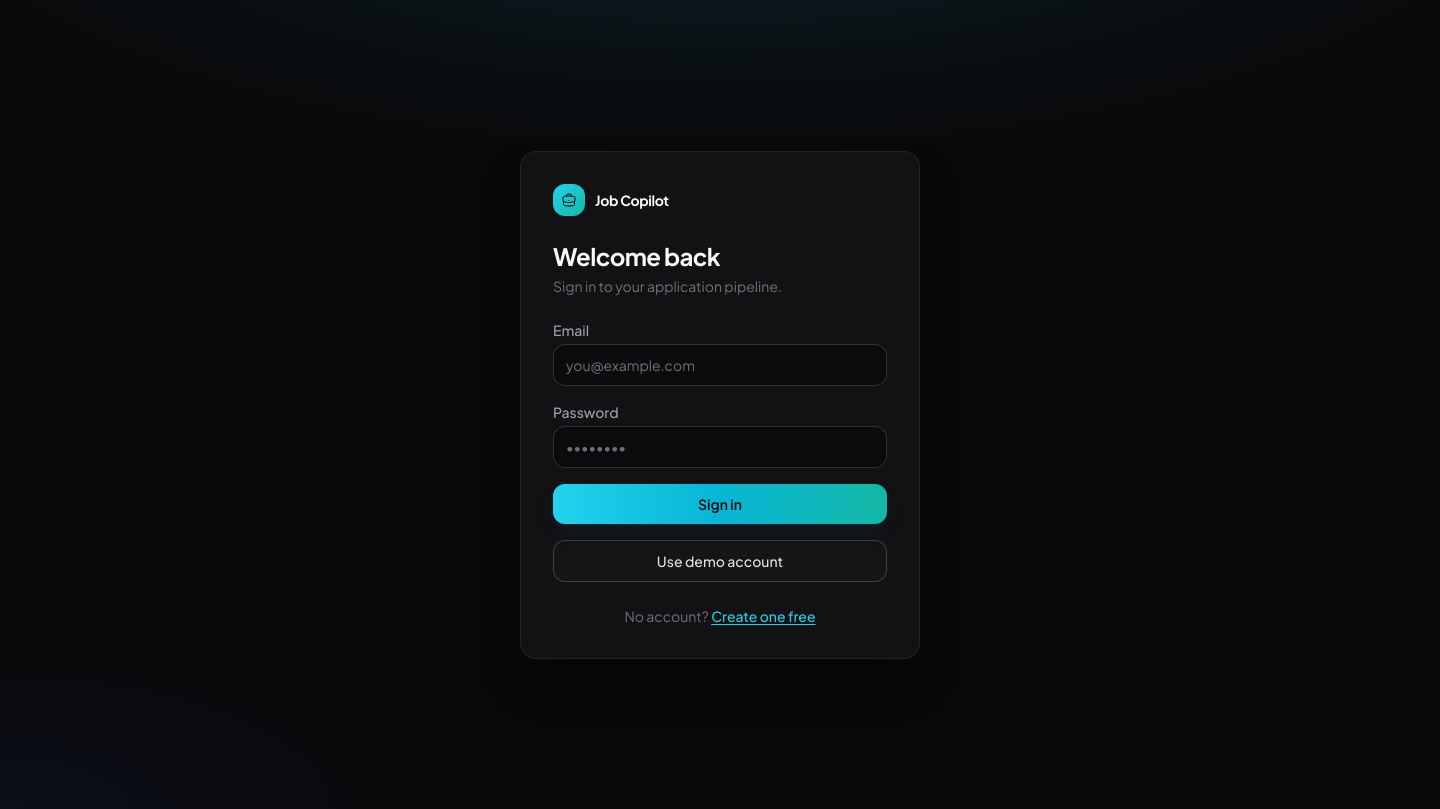
Test: Frontend auth + job tracker flow › creates a job from the dashboard form
Later steps or results of the test are not shown.
Step 1. Click the button with test id "login-demo" → (720, 561), box [553,540,887,582]
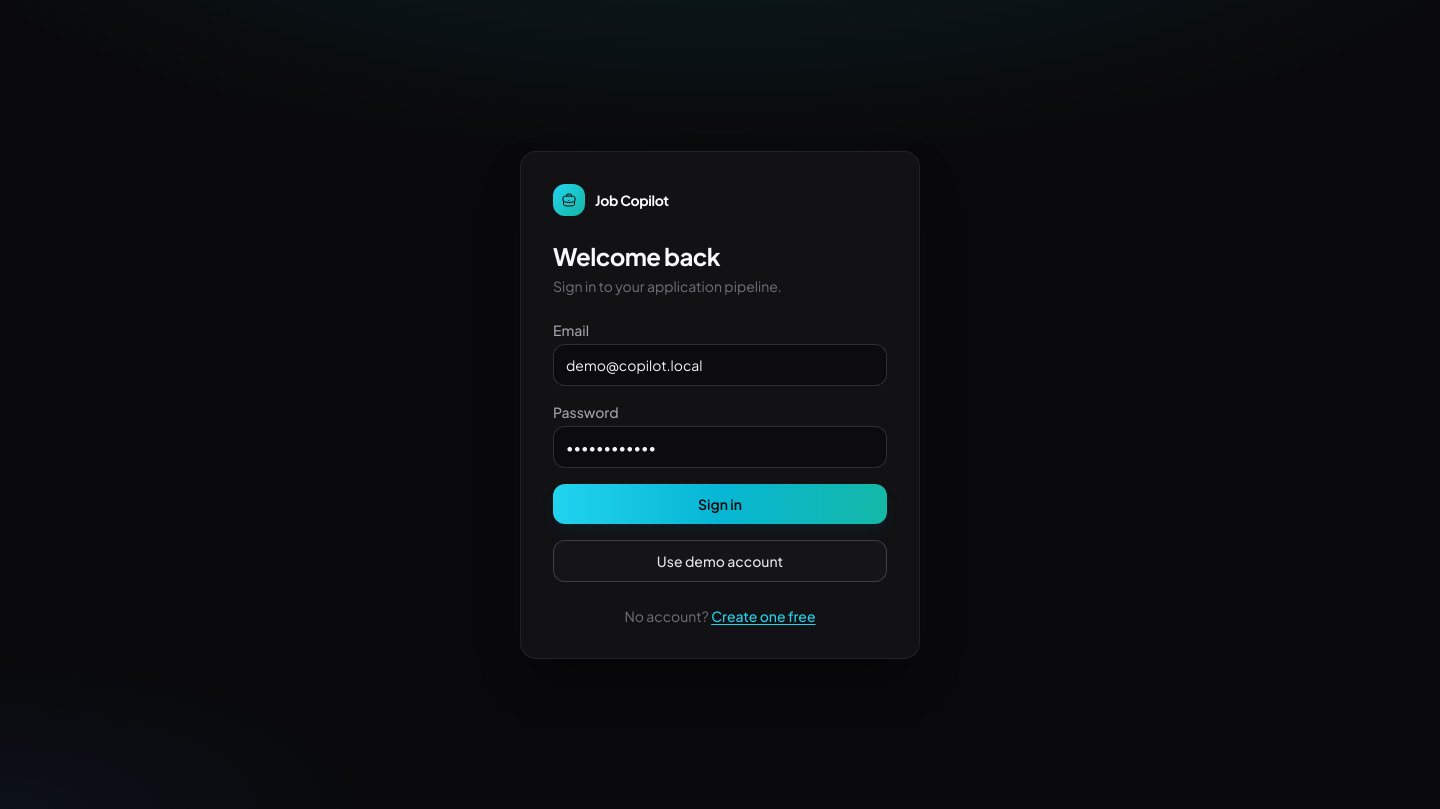
Step 2. Click the button with test id "login-submit" → (720, 504), box [553,484,887,524]
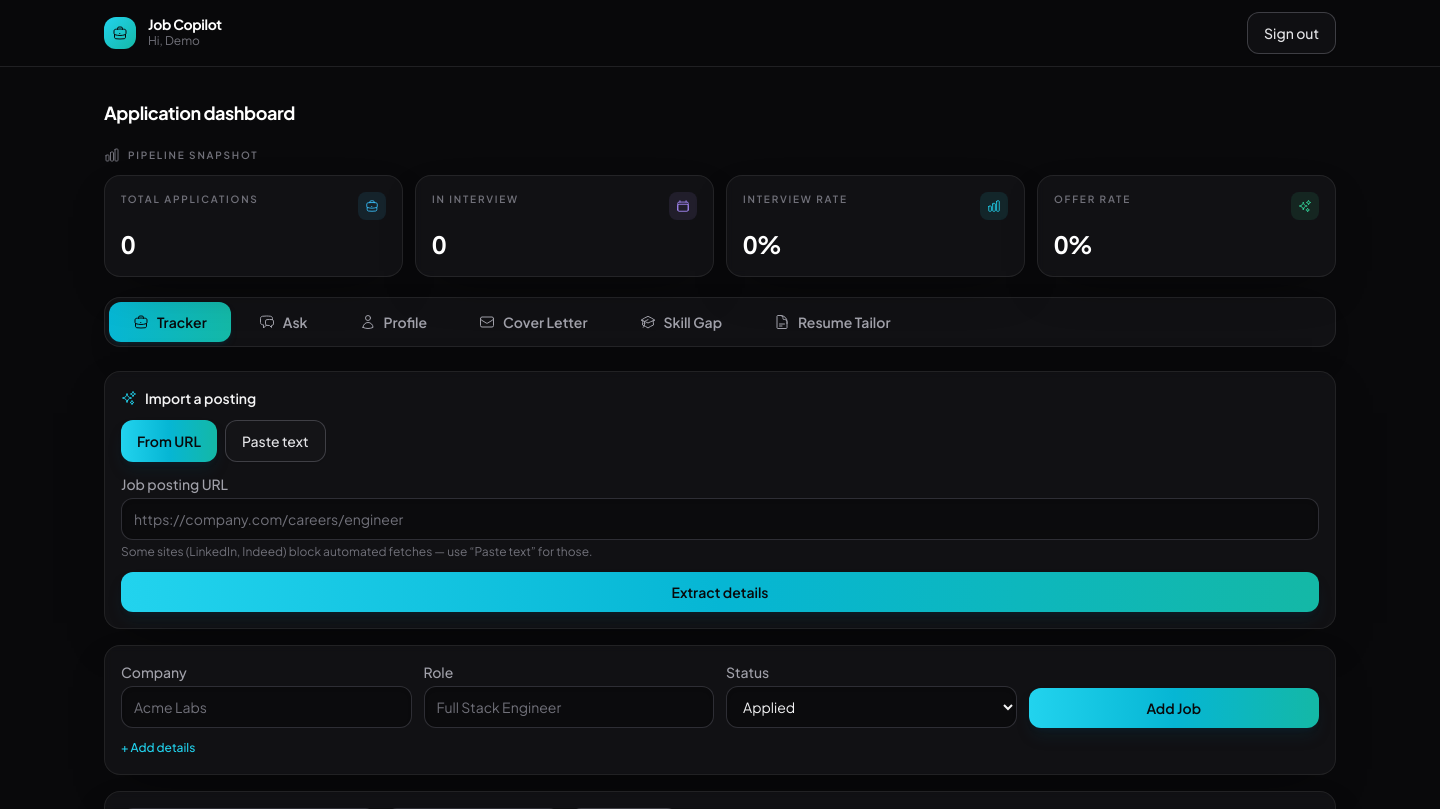
Expected: the field with test id "add-job-company" is shown, [121,686,412,728]
